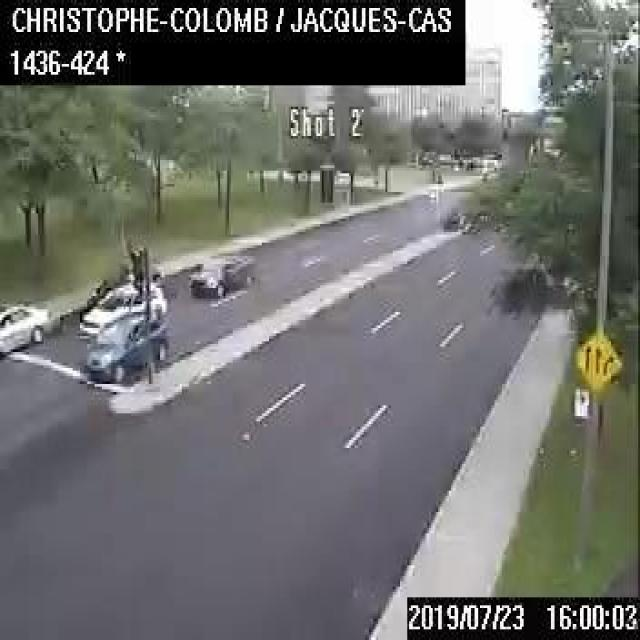vehicle: (83, 310, 169, 382), (78, 278, 165, 340), (0, 299, 58, 357), (189, 251, 249, 293)
